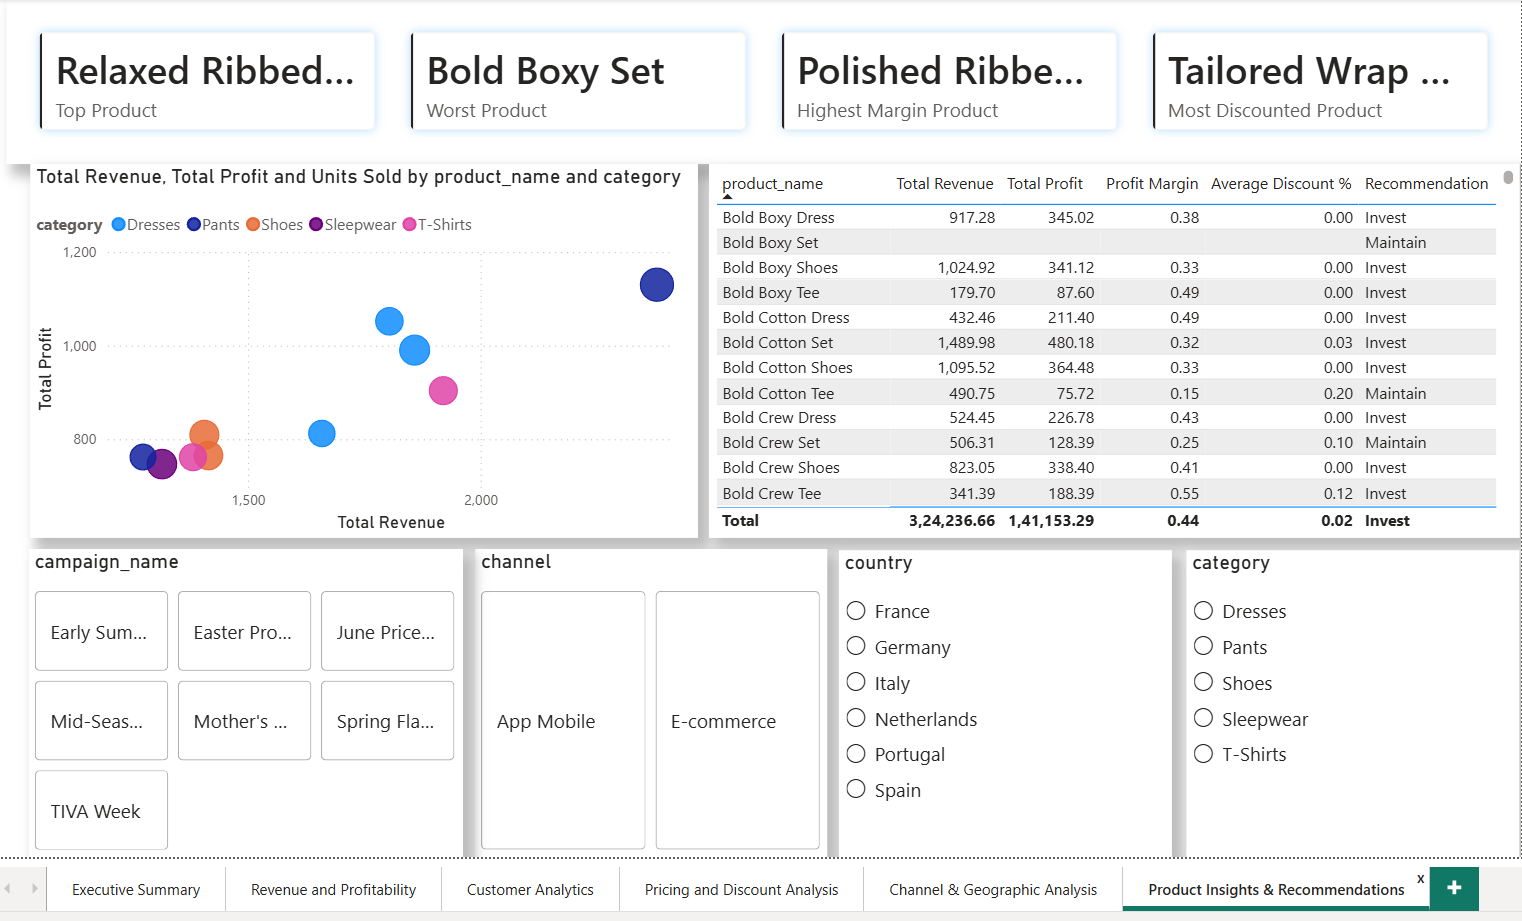

What the dashboard file says about the page in this screenshot:
{"tool":"powerbi","page":{"name":"Product Insights & Recommendations","canvas":[1280,720],"ordinal":5},"visuals":[{"type":"cardVisual","fields":{"Data":["products.Top Product","products.Worst Product","products.Highest Margin Product","products.Most Discounted Product"]},"box":[10,0,1270,138.3],"z":0},{"type":"scatterChart","fields":{"Category":["products.product_name"],"Series":["products.category"],"Size":["salesitems.Units Sold"],"X":["salesitems.Total Revenue"],"Y":["salesitems.Total Profit"]},"box":[29.9,138.3,560.2,313.6],"z":1000},{"type":"tableEx","fields":{"Values":["products.product_name","salesitems.Total Revenue","salesitems.Total Profit","salesitems.Profit Margin","products.Average Discount %","products.Recommendation"]},"box":[600.1,138.3,679.9,313.6],"z":2000},{"type":"advancedSlicerVisual","fields":{"Values":["channels.channel"]},"box":[403.4,461.8,295.4,258.2],"z":3000},{"type":"listSlicer","fields":{"Values":["customers.country"]},"box":[708.4,461.8,279,258],"z":4000},{"type":"listSlicer","fields":{"Values":["products.category"]},"box":[1000.6,461.8,279,258],"z":5000},{"type":"advancedSlicerVisual","fields":{"Values":["campaigns.campaign_name"]},"box":[29.8,461.8,363.7,258.2],"z":6000}]}

Visuals, with their boxes on the page's 1280x720 design canvas (x1, y1, x2, y2). These are canvas units, not pixel positions in the 1522x921 screenshot, which may show the page scaled, cropped or inside an application window:
cardVisual - products.Top Product x products.Worst Product: {"x1": 10, "y1": 0, "x2": 1280, "y2": 138}
scatterChart - products.product_name x products.category: {"x1": 30, "y1": 138, "x2": 590, "y2": 452}
tableEx - products.product_name x salesitems.Total Revenue: {"x1": 600, "y1": 138, "x2": 1280, "y2": 452}
advancedSlicerVisual - channels.channel: {"x1": 403, "y1": 462, "x2": 699, "y2": 720}
listSlicer - customers.country: {"x1": 708, "y1": 462, "x2": 987, "y2": 720}
listSlicer - products.category: {"x1": 1001, "y1": 462, "x2": 1280, "y2": 720}
advancedSlicerVisual - campaigns.campaign_name: {"x1": 30, "y1": 462, "x2": 394, "y2": 720}
